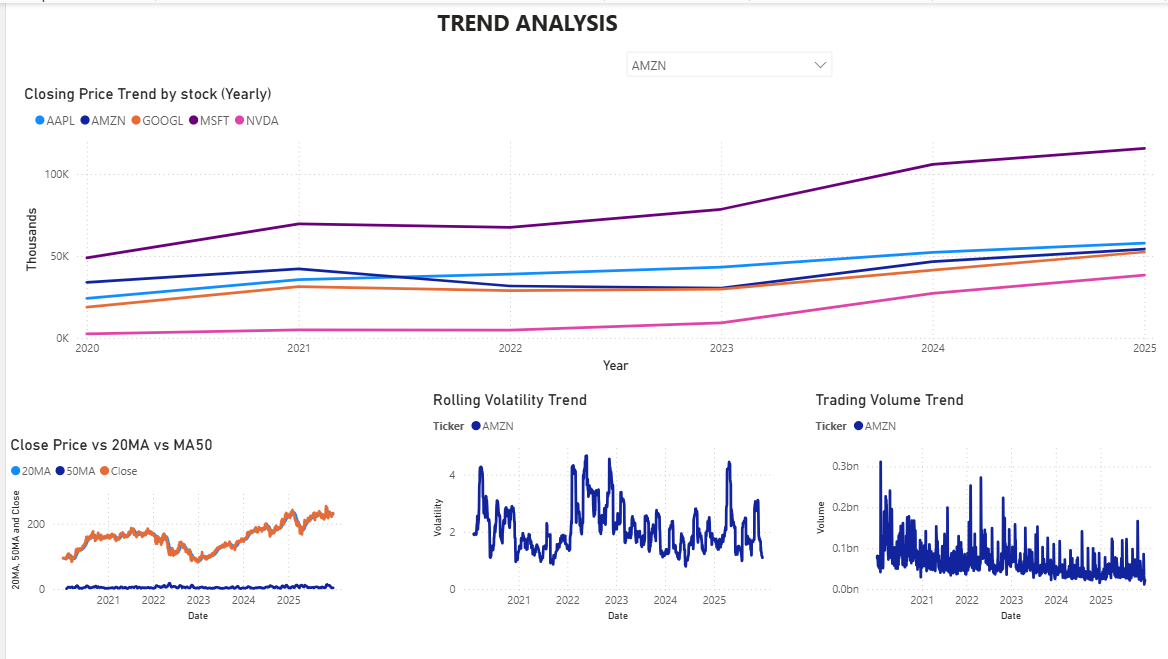

This screenshot's page, from the dashboard's own definition file:
{"tool":"powerbi","page":{"name":"Trend Analysis","canvas":[1280,720],"ordinal":1},"visuals":[{"type":"slicer","fields":{"Values":["final_kpi.Ticker"]},"box":[671,24.7,245.6,63.1],"z":0},{"type":"lineChart","title":"Closing Price Trend by stock (Yearly)","fields":{"Category":["stock_timeseries.Date.Variation.Date Hierarchy.Year","stock_timeseries.Date.Variation.Date Hierarchy.Quarter","stock_timeseries.Date.Variation.Date Hierarchy.Month","stock_timeseries.Date.Variation.Date Hierarchy.Day"],"Y":["Sum(stock_timeseries.Close)"],"Series":["final_kpi.Ticker"]},"box":[15.7,89.8,1252.9,322.1],"z":1000},{"type":"lineChart","title":"Close Price vs 20MA vs MA50","fields":{"Category":["stock_timeseries.Date"],"Y":["Sum(stock_timeseries.20MA)","Sum(stock_timeseries.50MA)","Sum(stock_timeseries.Close)"]},"box":[0,474.8,377.4,208.6],"z":2000},{"type":"lineChart","title":"Rolling Volatility Trend","fields":{"Y":["Sum(stock_timeseries.Volatility)"],"Series":["final_kpi.Ticker"],"Category":["stock_timeseries.Date"]},"box":[463.3,424.8,384.9,258],"z":3000},{"type":"lineChart","title":"Trading Volume Trend","fields":{"Y":["Sum(stock_timeseries.Volume)"],"Series":["final_kpi.Ticker"],"Category":["stock_timeseries.Date"]},"box":[883.7,424.8,384.9,258],"z":4000},{"type":"textbox","box":[141.1,0,862.4,48.5],"z":5000}]}

Visuals, with their boxes in screenshot pixels (x1, y1, x2, y2), scaled from the page's 1280x720 canvas onto the 1168x659 screenshot:
slicer - final_kpi.Ticker: <box>612,23,836,80</box>
"Closing Price Trend by stock (Yearly)" lineChart: <box>14,82,1158,377</box>
"Close Price vs 20MA vs MA50" lineChart: <box>0,435,344,626</box>
"Rolling Volatility Trend" lineChart: <box>423,389,774,625</box>
"Trading Volume Trend" lineChart: <box>806,389,1158,625</box>
textbox: <box>129,0,916,44</box>
